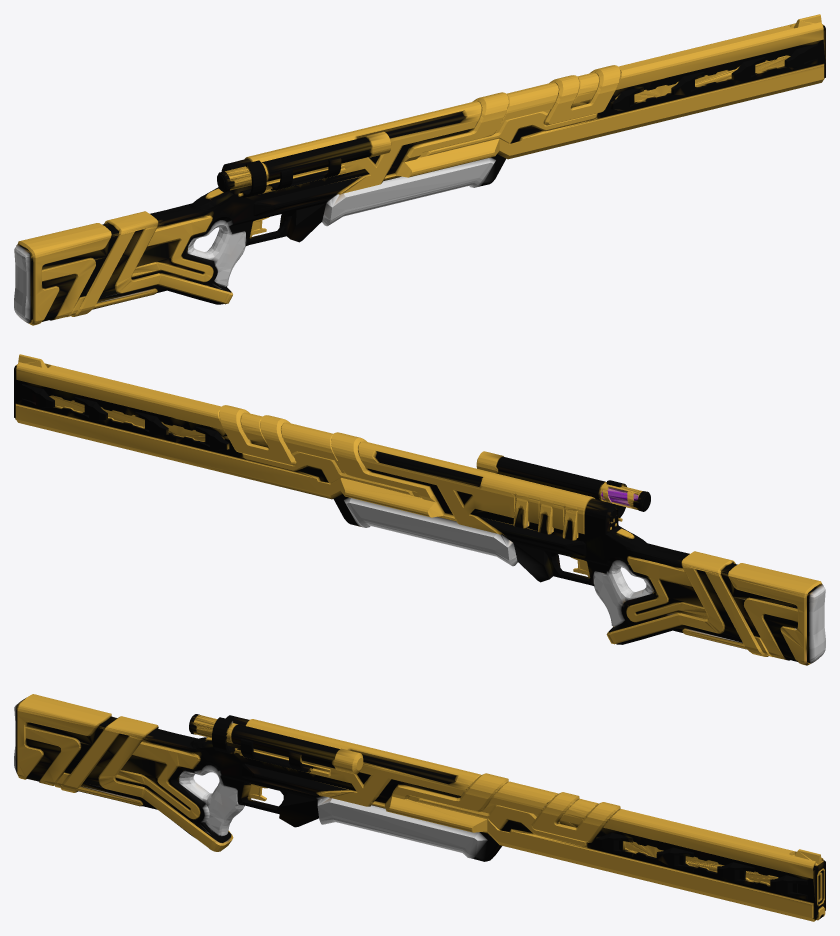
File: valorant_chamber_tour_de_force_sniper.glb
The picture shows the model from 3 angles, top to bottom: view 1: azimuth 30°, elevation 25°; view 2: azimuth 150°, elevation 25°; view 3: azimuth 330°, elevation 25°; orthographic projection.
Visible parts, largest first — view 1: chamber sniper_0; view 2: chamber sniper_0; view 3: chamber sniper_0.
Boxes of the visible parts, bbox=[...] form: chamber sniper_0: bbox=[14, 14, 825, 325]; chamber sniper_0: bbox=[14, 354, 825, 665]; chamber sniper_0: bbox=[14, 694, 825, 921].
Size of the model in its own units: 42.58 by 7.33 by 2.97.
